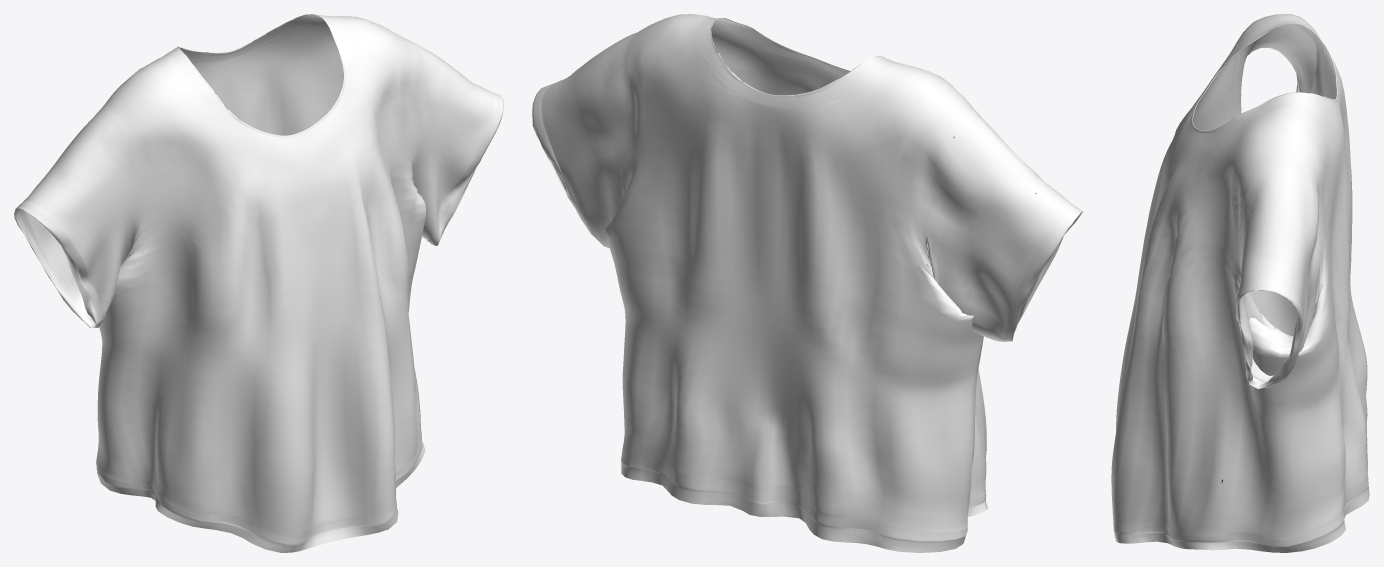
File: Petite_Tshirt_XL.glb
3 renders of one model, left to right at view 1: azimuth 30°, elevation 25°; view 2: azimuth 150°, elevation 25°; view 3: azimuth 270°, elevation 25°, orthographic. The views are drawn at different scales.
Visible parts, largest first — view 1: TShirt_for_Genesis.008; view 2: TShirt_for_Genesis.008; view 3: TShirt_for_Genesis.008.
Boxes of the visible parts, <box> form: TShirt_for_Genesis.008: <box>14,14,503,552</box>; TShirt_for_Genesis.008: <box>532,14,1082,552</box>; TShirt_for_Genesis.008: <box>1111,14,1369,552</box>.
Size of the model in its own units: 14.34 by 12.97 by 6.52.
Materials: 1 (1 with a texture image).
